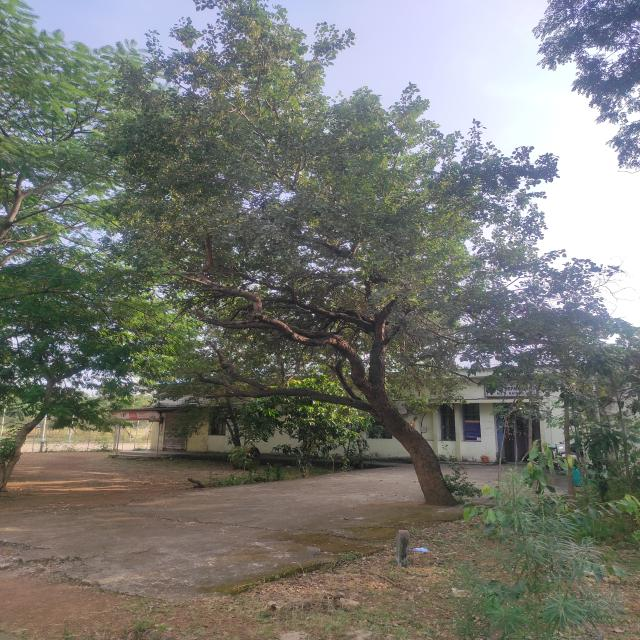Devakanchan tree: (178, 65, 599, 555)
